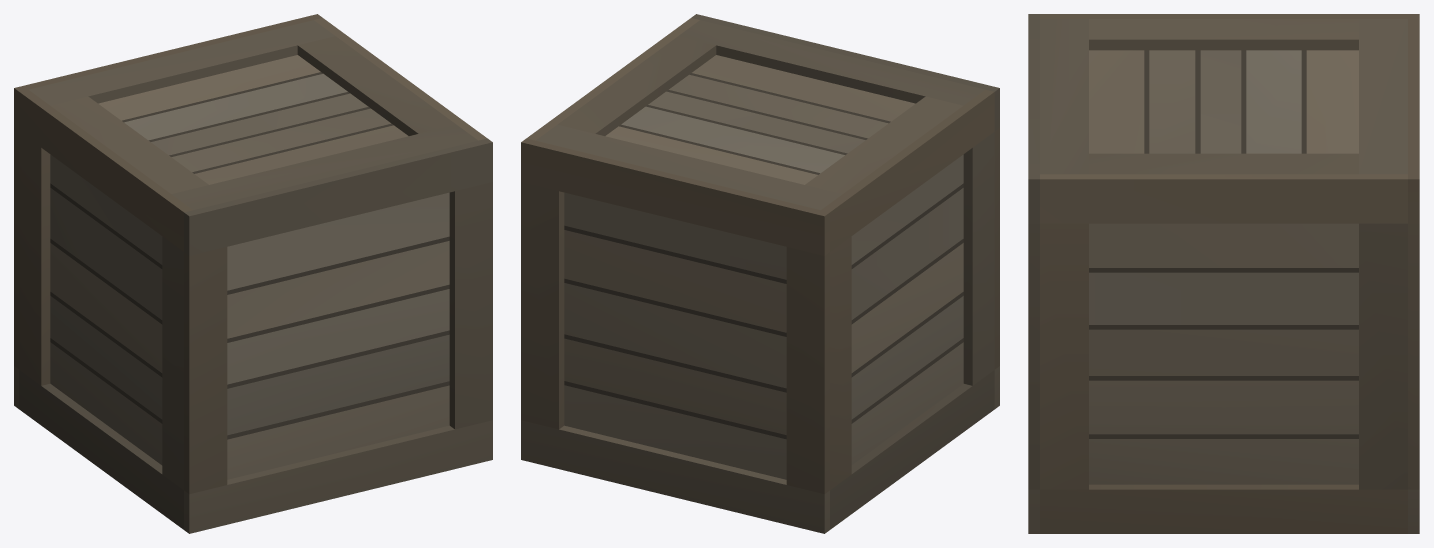
Rendered from crate.wood.weathered.glb.
3 views of the same model, side by side, from view 1: azimuth 30°, elevation 25°; view 2: azimuth 150°, elevation 25°; view 3: azimuth 270°, elevation 25° (orthographic). The views are drawn at different scales.
Visible parts, largest first — view 1: crate_wood_weathered; view 2: crate_wood_weathered; view 3: crate_wood_weathered.
Part boxes in pixels (<box>): crate_wood_weathered: <box>14,14,492,533</box>; crate_wood_weathered: <box>521,14,999,533</box>; crate_wood_weathered: <box>1028,14,1419,533</box>.
Size of what is drawn, in the model's own units: 0.6 by 0.6 by 0.6.
